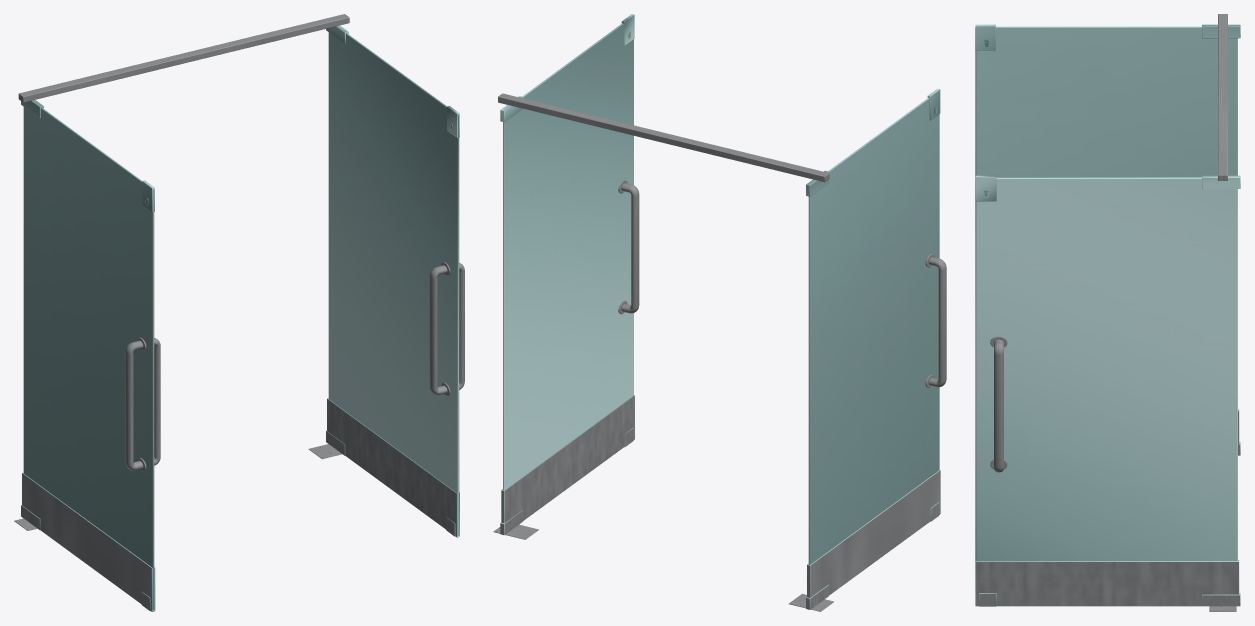
Rendered from glassDoors.fbx.
3 renders of one model, left to right at view 1: azimuth 30°, elevation 25°; view 2: azimuth 150°, elevation 25°; view 3: azimuth 270°, elevation 25°, orthographic.
Parts seen in each view (by area): view 1: Glass Door.007, Glass Door.023, Glass Door.001, Glass Door.002, Glass Door.020; view 2: Glass Door.007, Glass Door.023, Glass Door.001, Glass Door.002, Glass Door.020; view 3: Glass Door.023, Glass Door.007, Glass Door.002, Glass Door.020.
Boxes of the visible parts, x1,y1,x2,y2 form: Glass Door.007: [21, 100, 155, 611]; Glass Door.023: [326, 25, 459, 537]; Glass Door.001: [21, 337, 160, 611]; Glass Door.002: [326, 262, 464, 536]; Glass Door.020: [14, 14, 349, 530]; Glass Door.007: [806, 88, 940, 609]; Glass Door.023: [500, 14, 634, 535]; Glass Door.001: [806, 254, 946, 609]; Glass Door.002: [500, 180, 639, 534]; Glass Door.020: [493, 93, 833, 611]; Glass Door.023: [975, 175, 1240, 606]; Glass Door.007: [975, 24, 1240, 455]; Glass Door.002: [976, 336, 1239, 606]; Glass Door.020: [1209, 14, 1236, 611].
Bounding box in the file's own units: 590 × 717 × 394.
2 materials, 2 textured.
